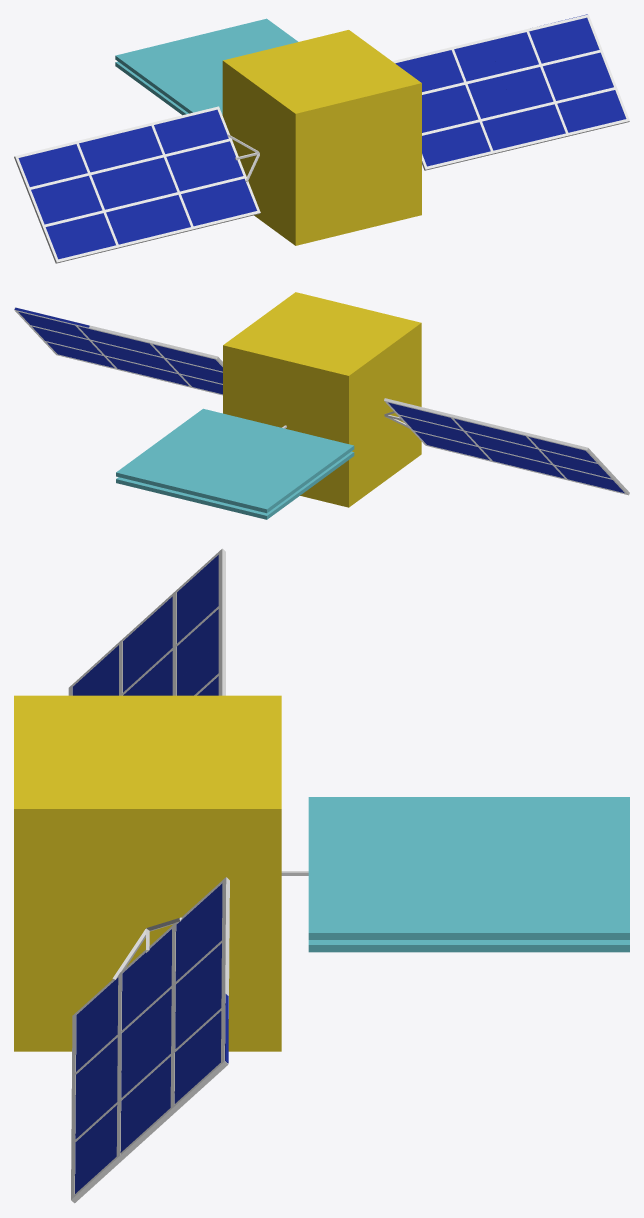
File: Satellite2.fbx
3 views of the same model, one above another, from view 1: azimuth 30°, elevation 25°; view 2: azimuth 150°, elevation 25°; view 3: azimuth 270°, elevation 25° (orthographic). The views are drawn at different scales.
Parts seen in each view (by area): view 1: Plane, Cube, Cylinder.005, Plane.001; view 2: Cube, Plane.001, Plane, Cylinder.005; view 3: Cube, Plane.001, Plane, Cylinder.005.
Boxes of the visible parts, <box> form: Plane: <box>18,14,626,259</box>; Cube: <box>222,30,421,245</box>; Cylinder.005: <box>14,14,629,263</box>; Plane.001: <box>115,18,298,115</box>; Cube: <box>223,292,421,507</box>; Plane.001: <box>116,408,354,519</box>; Plane: <box>14,307,624,493</box>; Cylinder.005: <box>14,307,629,495</box>; Cube: <box>14,695,281,1051</box>; Plane.001: <box>308,797,629,952</box>; Plane: <box>72,555,228,1193</box>; Cylinder.005: <box>68,548,229,1203</box>.
Bounding box in the file's own units: 455 × 100 × 230.
